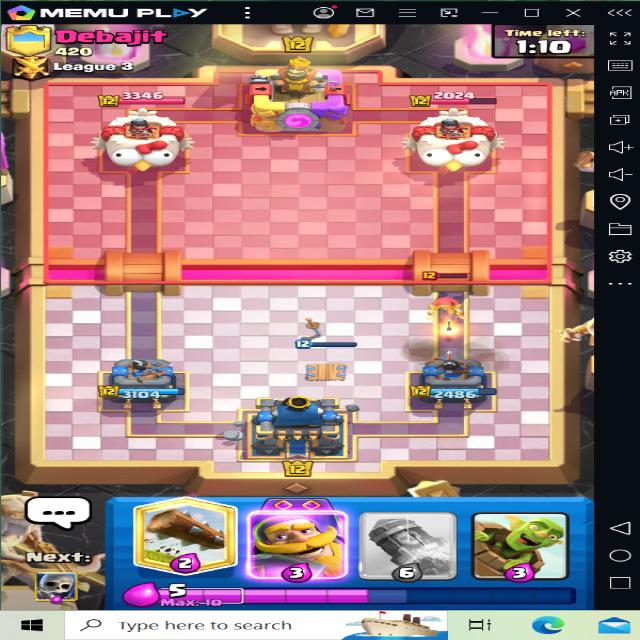Wizard: (410, 273, 477, 322)
